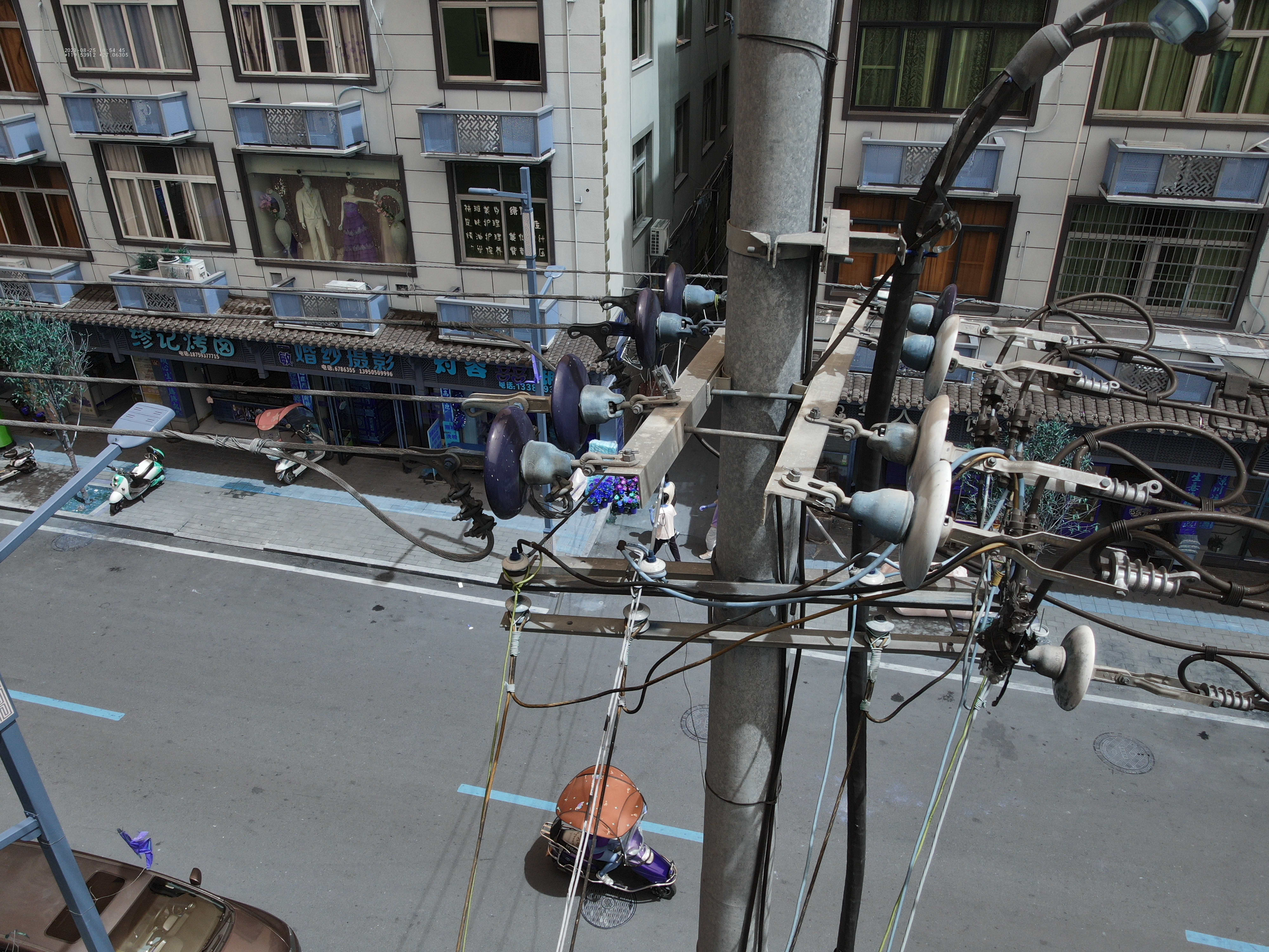severe_soiling_no_discharge_whole: (1028, 615, 1098, 715)
